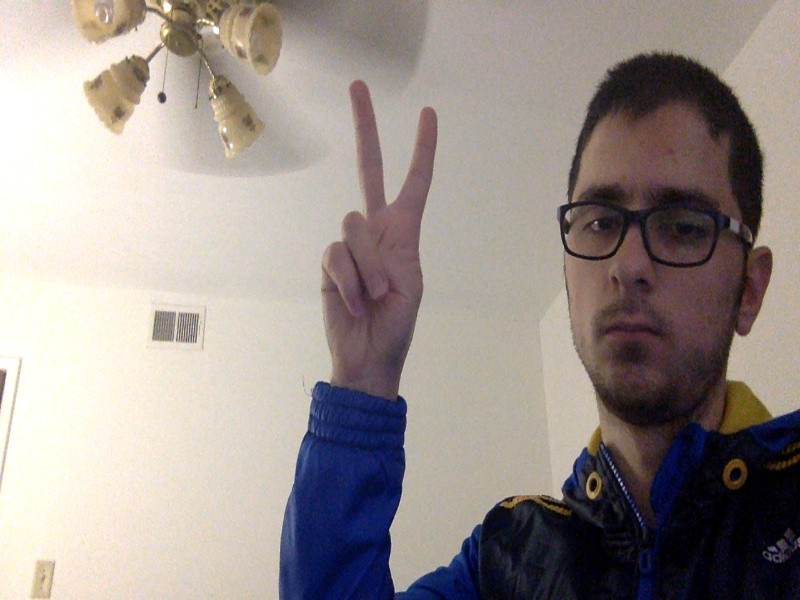2-hand: (320, 81, 439, 393)
